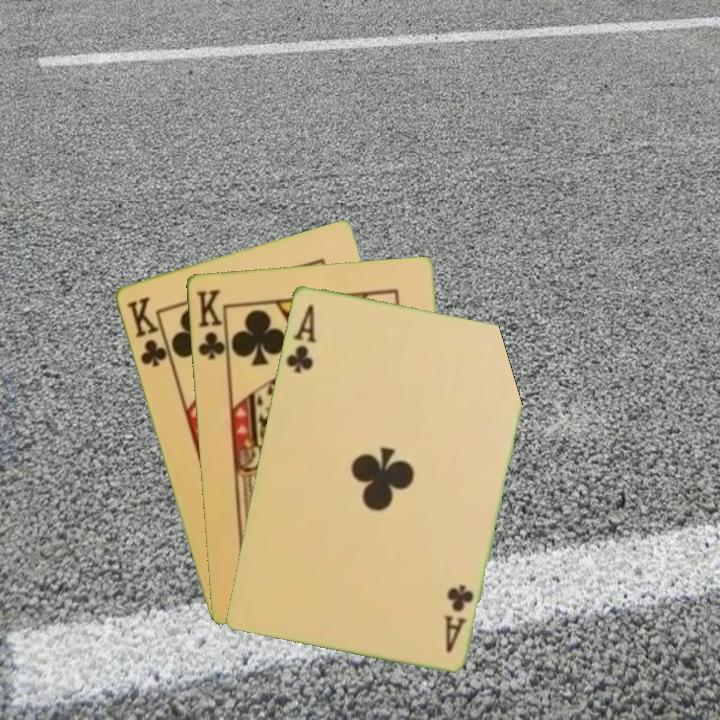Ac: (439, 580, 477, 655), (282, 300, 319, 376)
Kc: (122, 292, 174, 370), (193, 285, 230, 365)
